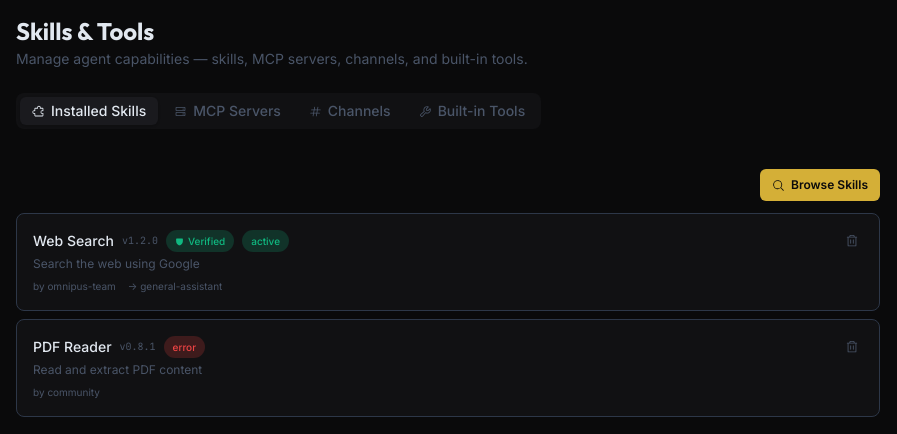
Test: SkillsScreen — MCP servers tab (test #20) › shows MCP servers with name, transport, status, and tool count
The image size is (897, 434).
Expected: the heading "Skills & Tools" is shown, [16,16,154,46]
Click the tab "MCP Servers" at x=228, y=111, box [162,97,293,125]
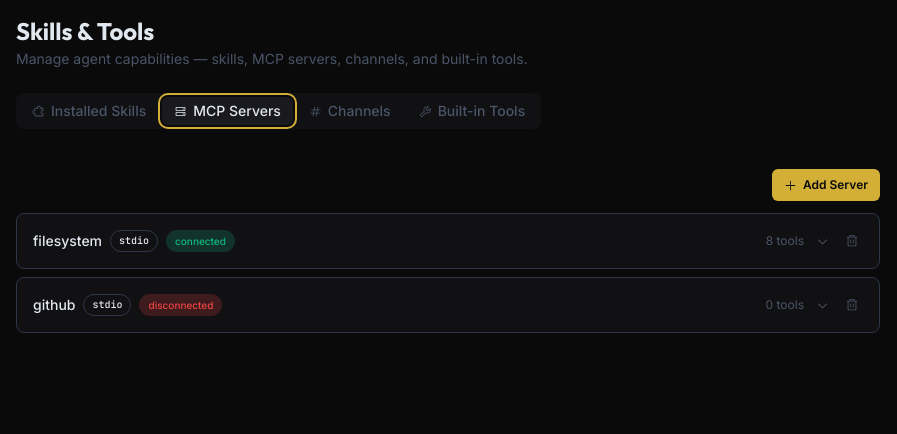
Result: the text "filesystem" is shown at [33,231,102,251]
Result: the text "github" is shown at [33,295,76,315]
Result: the text "8 tools" is shown at [766,233,804,249]
